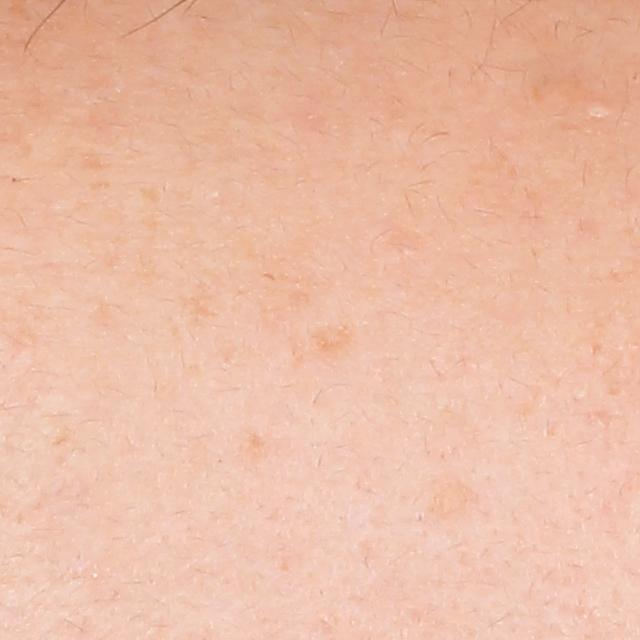comedo: (584, 92, 609, 117)
